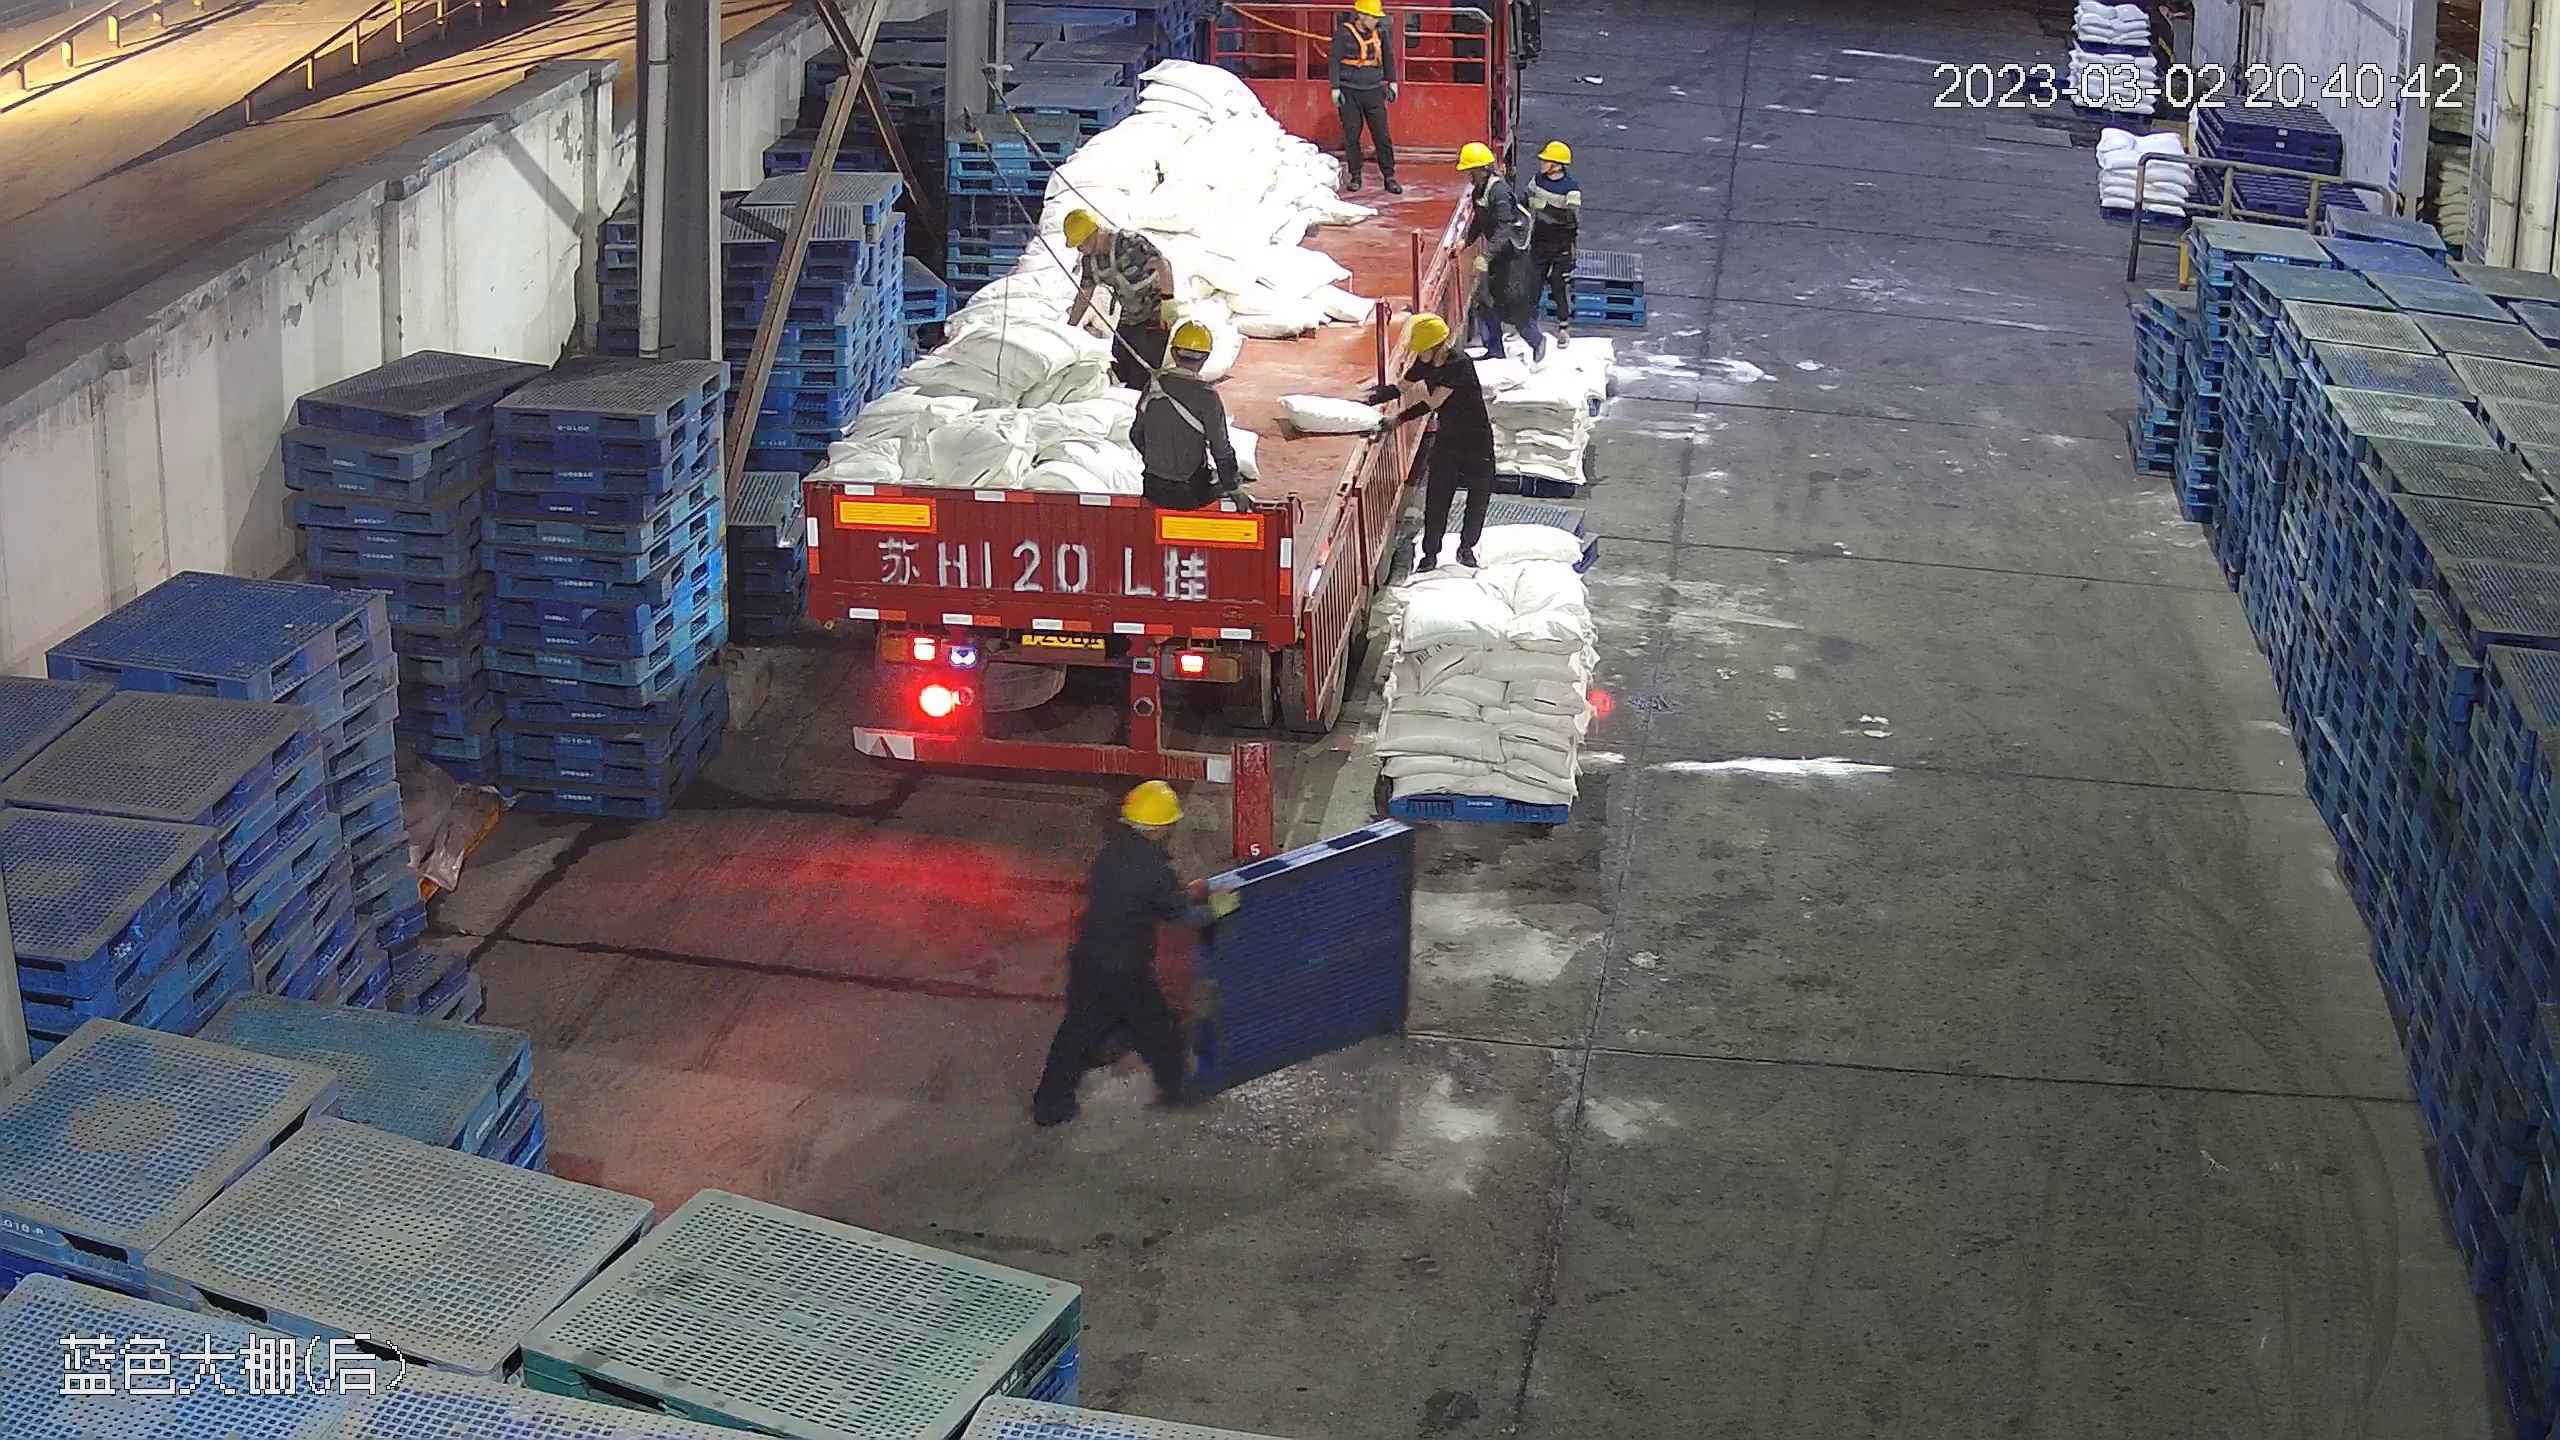belt: (1134, 356, 1203, 433), (1099, 229, 1165, 297), (1470, 179, 1513, 234), (1340, 19, 1387, 65)
head: (1087, 776, 1195, 900), (1142, 318, 1231, 410), (1400, 313, 1485, 395), (1063, 205, 1150, 273), (1455, 139, 1515, 216), (1511, 140, 1579, 204), (1330, 1, 1394, 50)
helmet: (1120, 777, 1184, 823), (1405, 313, 1453, 353), (1166, 318, 1215, 357), (1059, 205, 1104, 247), (1455, 141, 1497, 169), (1539, 139, 1573, 163), (1353, 1, 1385, 17)
people: (1024, 774, 1243, 1134), (1386, 310, 1497, 586), (1061, 205, 1179, 401), (1131, 317, 1245, 518), (1456, 137, 1532, 371), (1322, 1, 1406, 198), (1511, 134, 1582, 359)
truck: (787, 17, 1492, 769)
